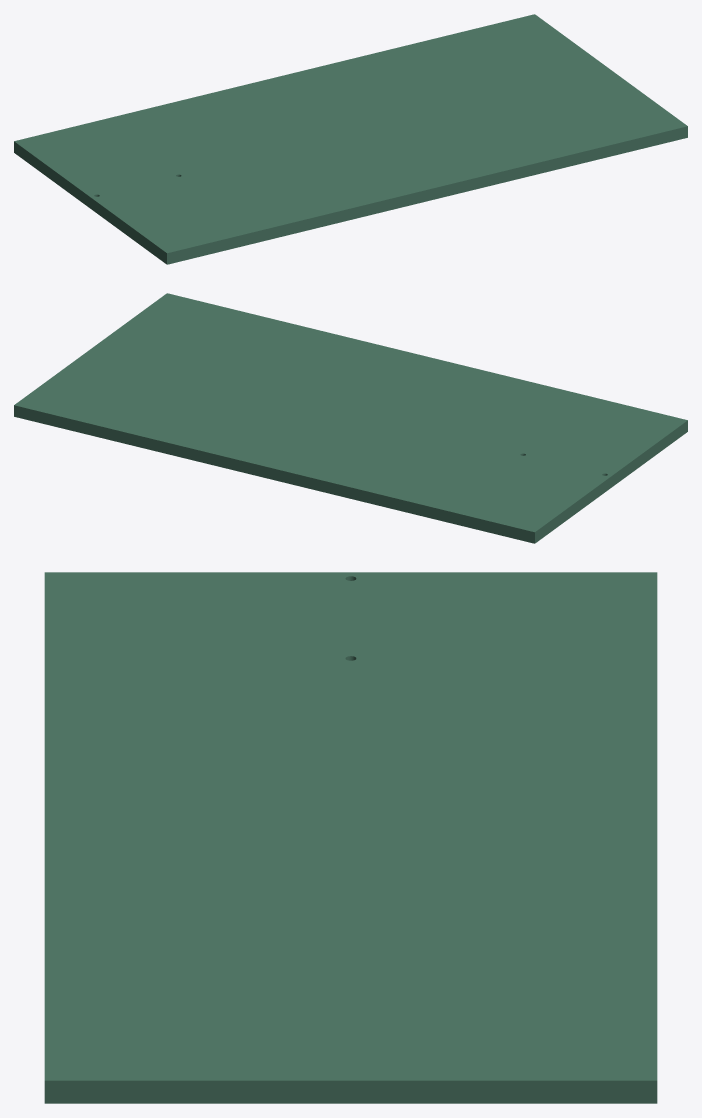
The model's file is pcb.glb.
The picture shows the model from 3 angles, top to bottom: view 1: azimuth 30°, elevation 25°; view 2: azimuth 150°, elevation 25°; view 3: azimuth 270°, elevation 25°; orthographic projection. The views are drawn at different scales.
Parts seen in each view (by area): view 1: =>[0:1:1:2]; view 2: =>[0:1:1:2]; view 3: =>[0:1:1:2].
Boxes of the visible parts, x1=… form: =>[0:1:1:2]: x1=14, y1=14, x2=687, y2=264; =>[0:1:1:2]: x1=14, y1=293, x2=687, y2=543; =>[0:1:1:2]: x1=44, y1=572, x2=657, y2=1103.
Bounding box in the file's own units: 0.055 × 0.00116 × 0.028.
